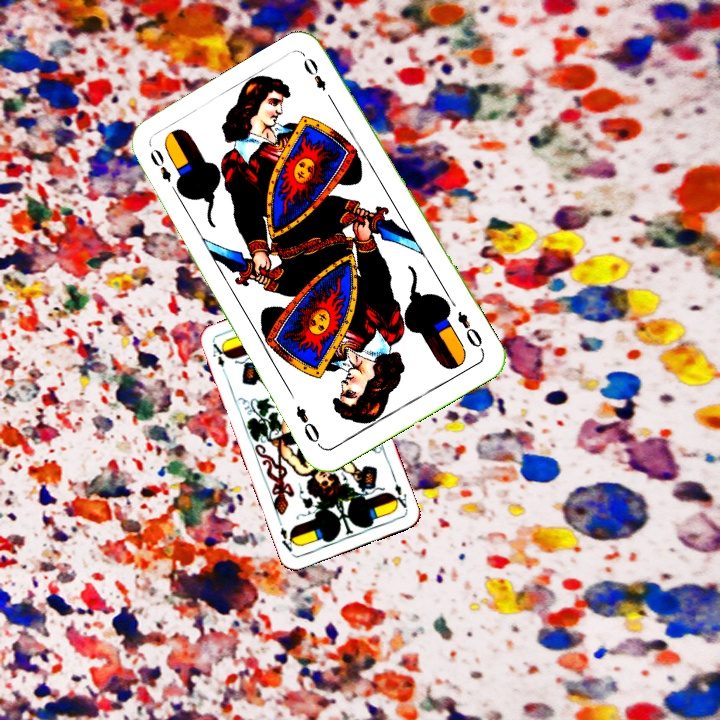EA: (208, 339, 230, 378), (388, 480, 410, 512)
EO: (145, 144, 182, 197), (453, 307, 487, 354)
